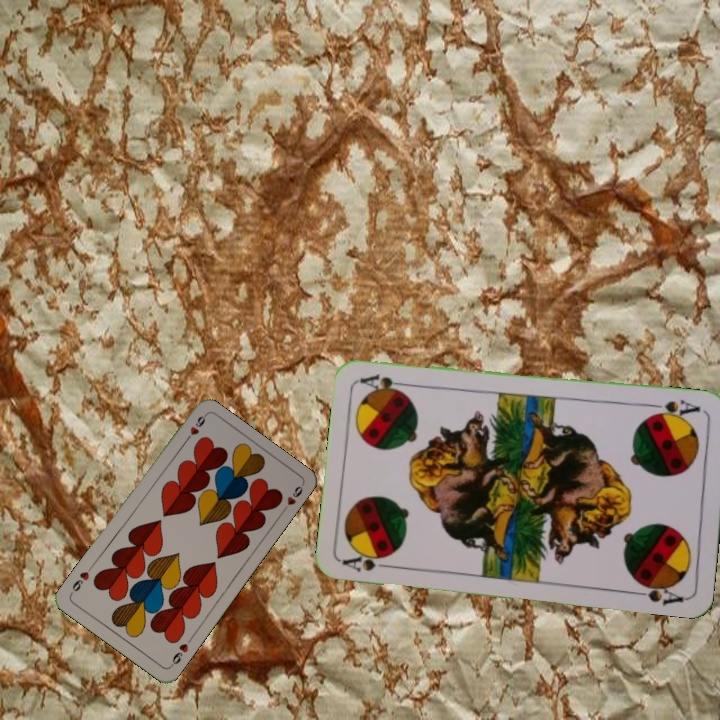H9: (179, 411, 208, 447), (166, 634, 194, 669)
SA: (339, 547, 398, 575), (647, 395, 703, 422)
